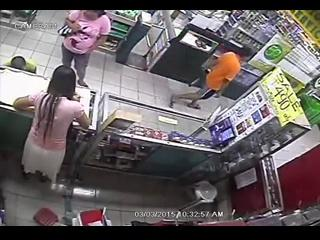Normal: (12, 64, 92, 190), (60, 10, 111, 88), (174, 52, 242, 104)
